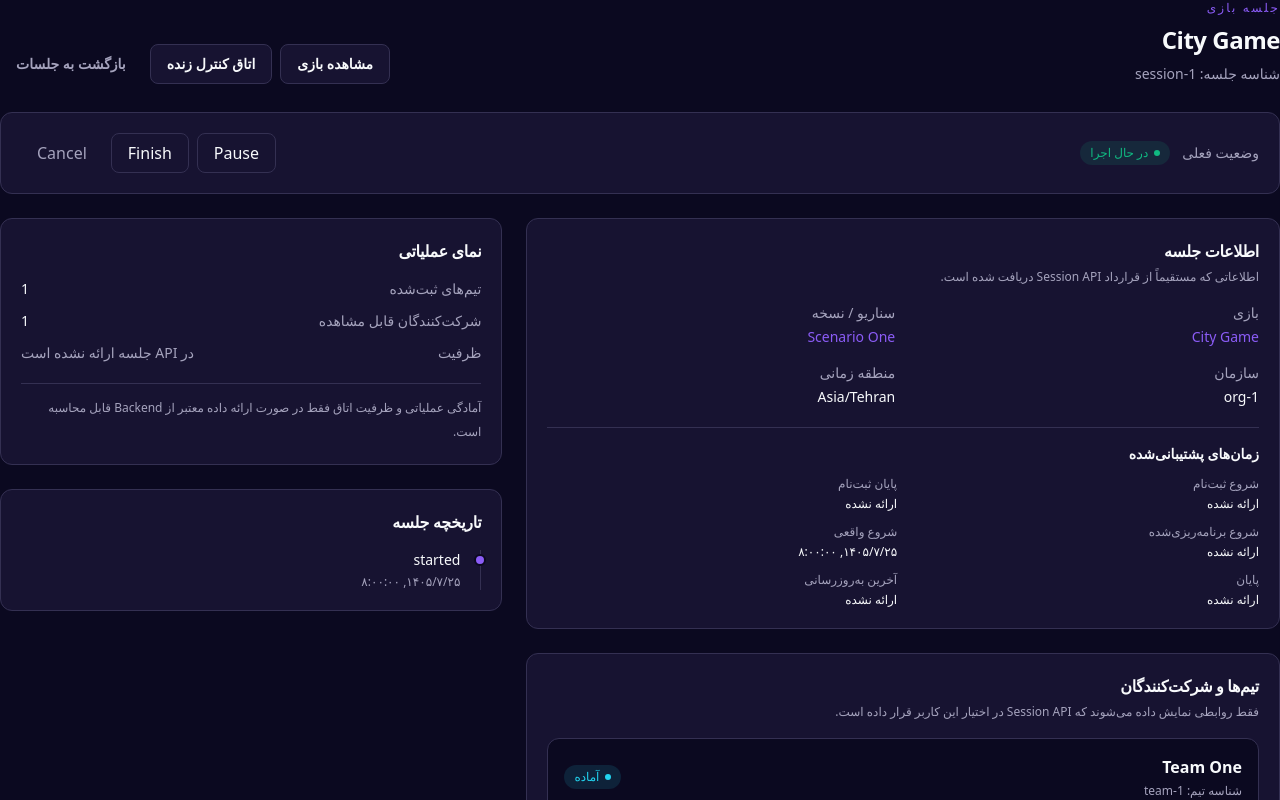
Test: session detail › shows an error when the lifecycle API rejects an authorized action
The width and height of the screenshot is (1280, 800).
Click the button "Pause" at (236, 153), box [197,133,276,173]
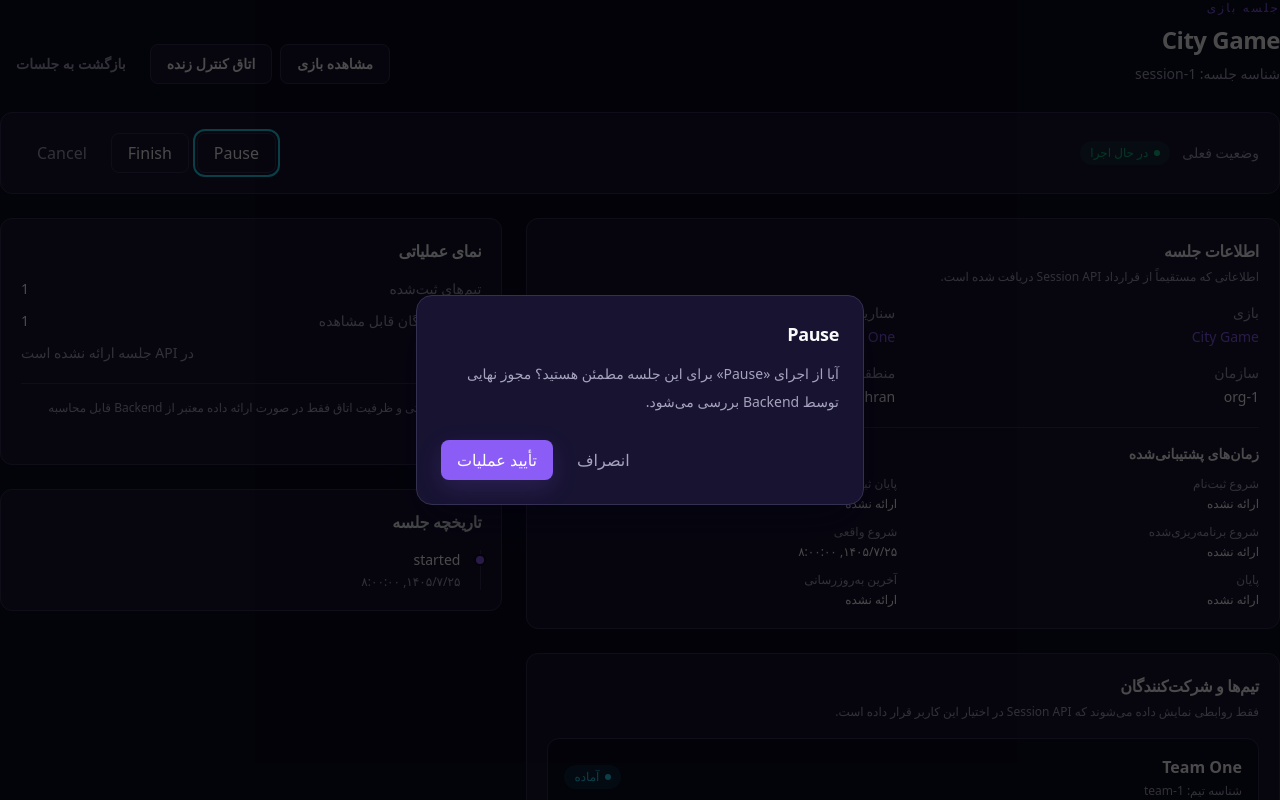
Click the button "تأیید عملیات" at (497, 460), box [441,440,553,480]
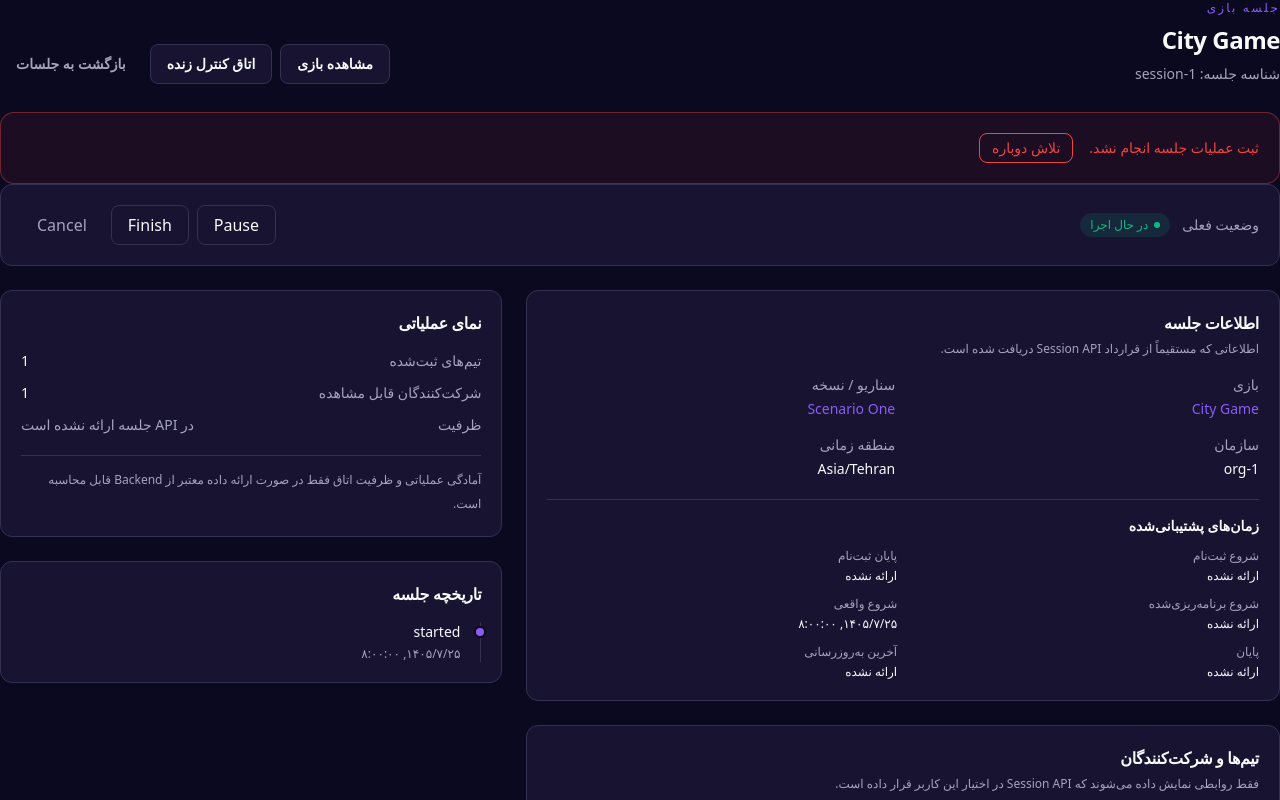
Expected: the text "ثبت عملیات جلسه انجام نشد." is shown, [1089,138,1259,157]
